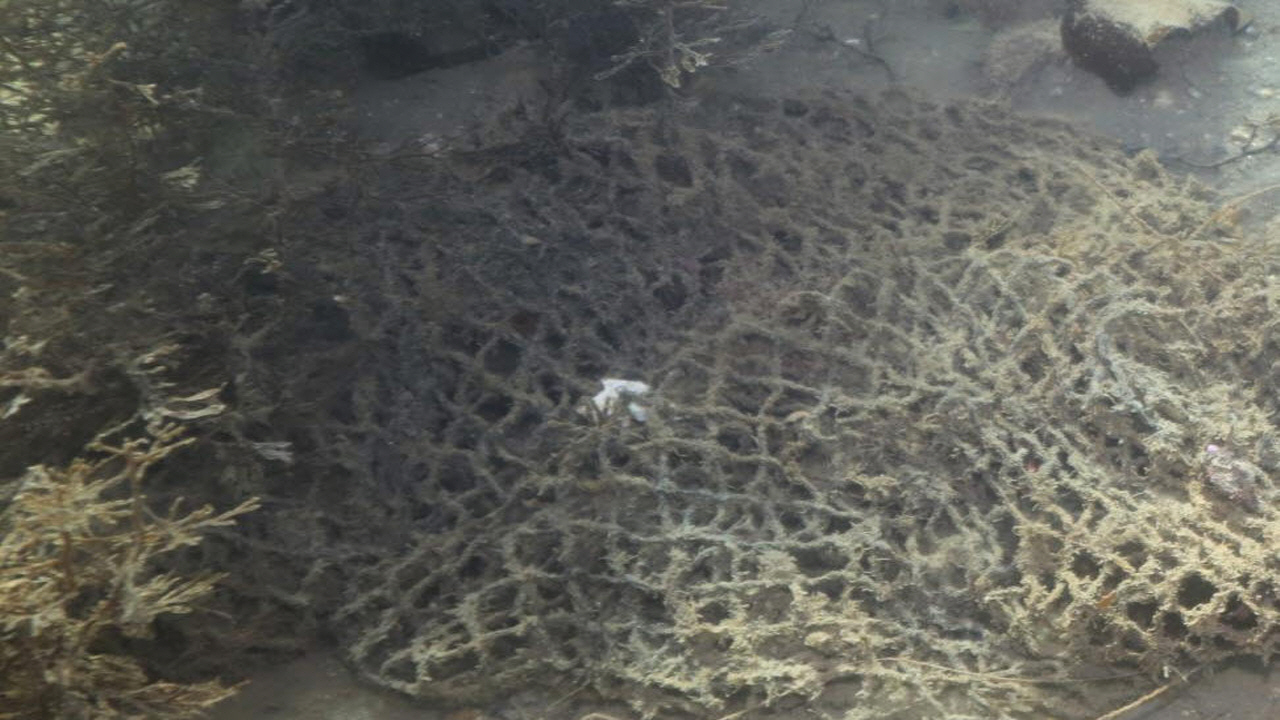fish net: (126, 86, 1279, 720)
